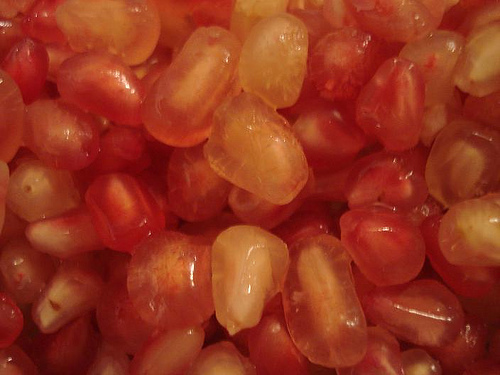pomogranate: (2, 4, 499, 374)
